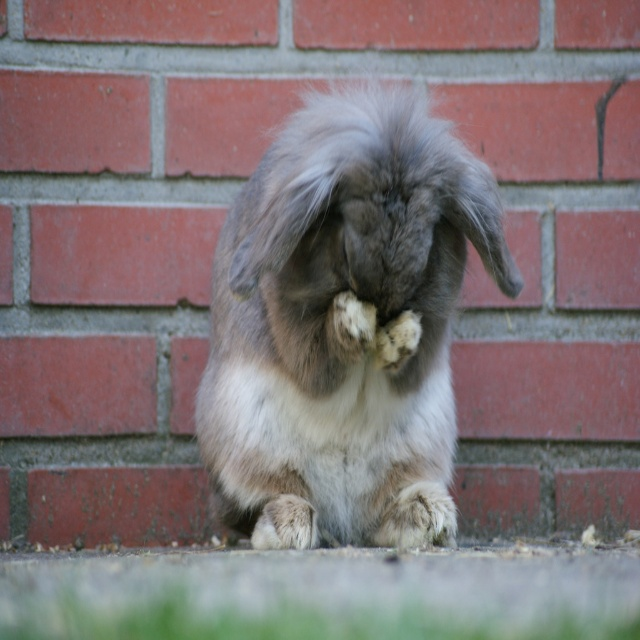Rabbit: (195, 81, 524, 547)
